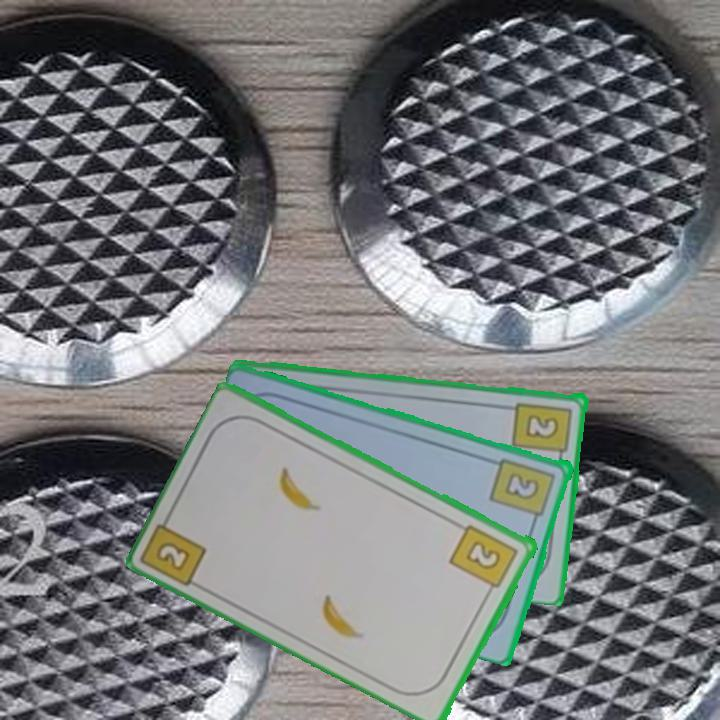2b: (447, 520, 522, 597), (487, 454, 559, 527), (510, 398, 575, 464), (152, 537, 194, 574)
